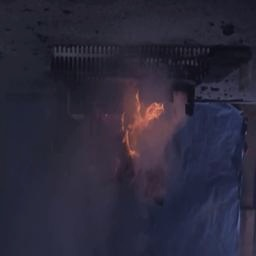fire: (120, 97, 167, 166)
